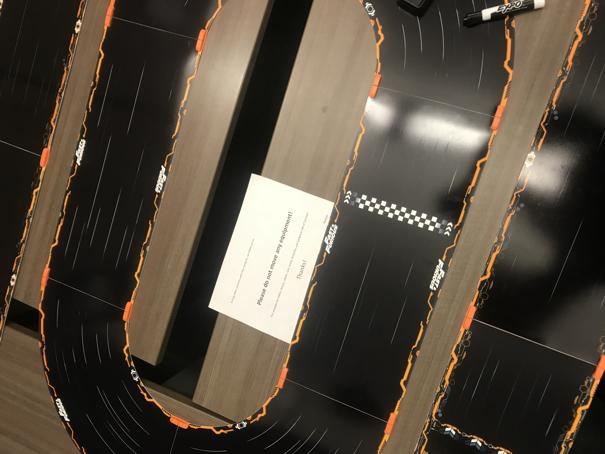Finish Line: (344, 190, 454, 239)
